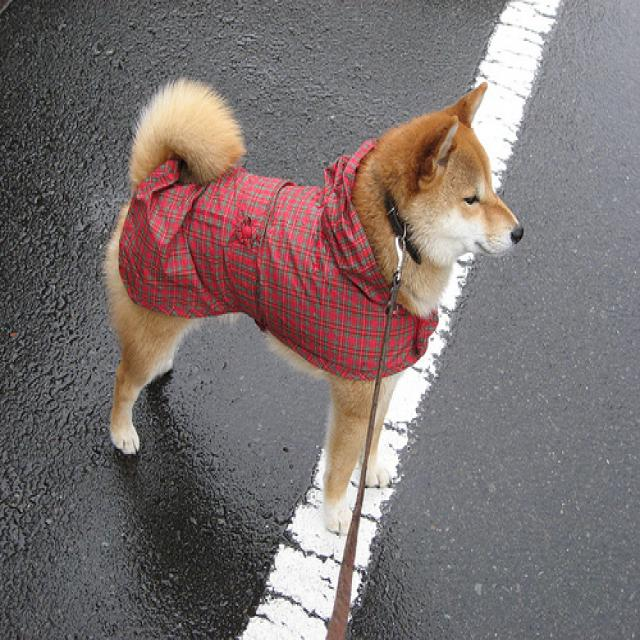dog-shiba_inu: (349, 77, 527, 317)
